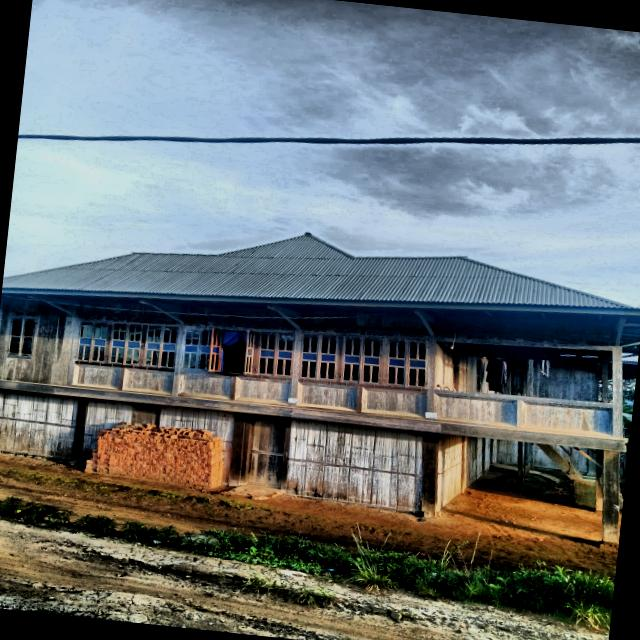column: (421, 431, 441, 517), (603, 449, 619, 543), (70, 396, 88, 464), (228, 412, 244, 486), (280, 417, 291, 493)
door: (245, 418, 286, 489)
ornamen: (520, 400, 613, 437), (433, 393, 517, 427), (360, 387, 427, 418), (296, 381, 358, 411), (234, 376, 291, 405), (177, 372, 232, 399), (122, 368, 174, 394), (71, 364, 121, 390)
roof: (2, 233, 630, 310)
stair: (534, 442, 596, 482)
wall: (295, 310, 429, 420), (286, 418, 423, 514), (176, 306, 295, 406), (70, 301, 178, 396), (0, 298, 72, 386), (158, 404, 235, 485), (0, 388, 78, 463), (437, 433, 481, 511), (81, 397, 133, 462)
window: (208, 327, 255, 374), (384, 338, 428, 388), (340, 336, 382, 385), (298, 333, 338, 381), (255, 331, 294, 378), (141, 325, 178, 369), (107, 322, 143, 366), (74, 321, 109, 363), (180, 327, 212, 371), (6, 317, 36, 357)
